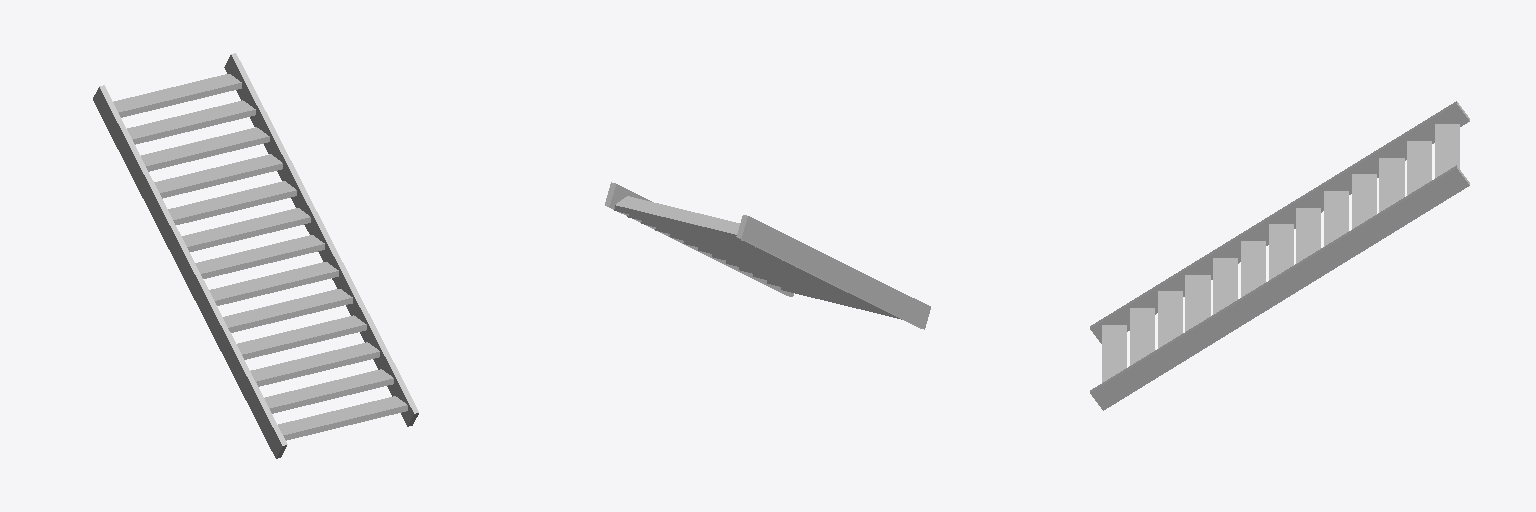
File: StairsL.obj
3 renders of one model, left to right at view 1: azimuth 30°, elevation 25°; view 2: azimuth 150°, elevation 25°; view 3: azimuth 270°, elevation 25°, orthographic.
Visible parts, largest first — view 1: StairsL; view 2: StairsL; view 3: StairsL.
Part boxes in pixels (bbox=[...]): StairsL: bbox=[93, 53, 418, 458]; StairsL: bbox=[605, 182, 930, 329]; StairsL: bbox=[1090, 101, 1469, 410].
Bounding box in the file's own units: 1.81 × 3.07 × 4.34.